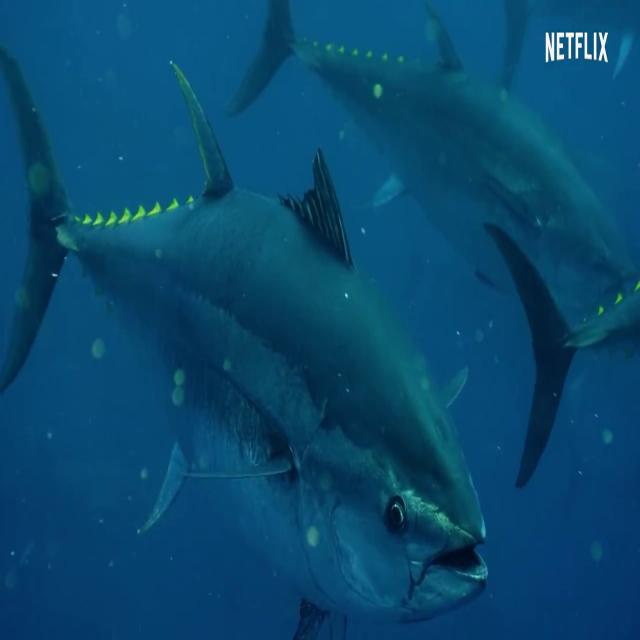fish: (0, 46, 486, 625)
